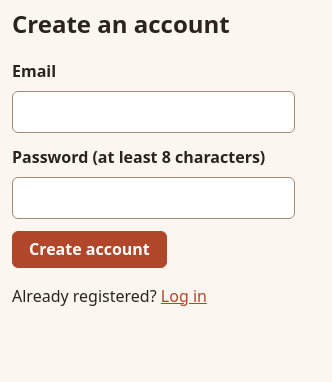
it: RegisterPage: the form › shows a general error as an alert when the server gives no field details
What coordinates should you click on to do the following:
click the button "Create account"
I would click on:
 (89, 249)
Its box is [12,231,167,268].
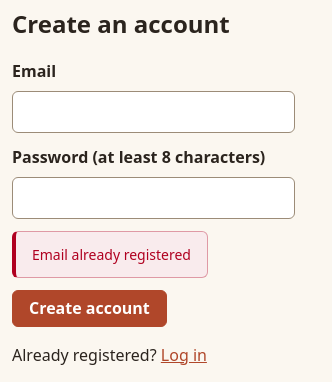
Now the message reads "Email already registered", box [32,245,191,264]
